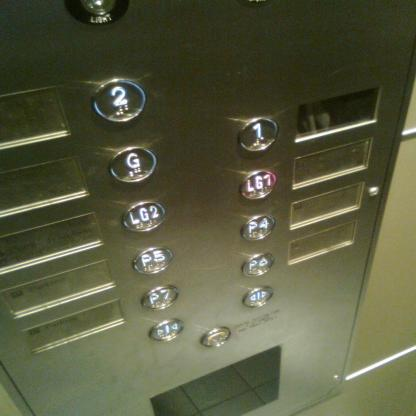1: (238, 117, 279, 153)
2: (90, 78, 148, 125)
G: (106, 145, 158, 185)
LG1: (239, 168, 276, 201)
LG2: (118, 199, 166, 233)
P4: (238, 213, 278, 243)
P5: (131, 245, 174, 276)
P6: (240, 251, 276, 278)
P7: (139, 284, 179, 312)
call: (197, 324, 232, 350)
close: (150, 317, 184, 343)
open: (240, 284, 275, 311)
